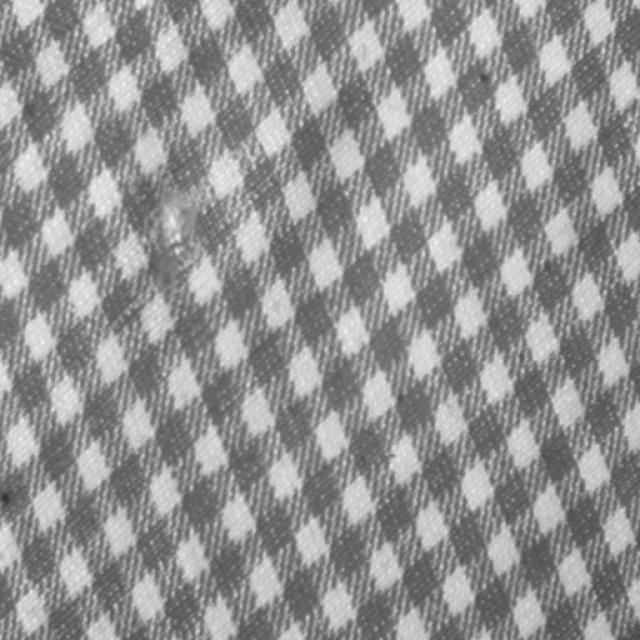Hole-Defect: (150, 194, 206, 276)
